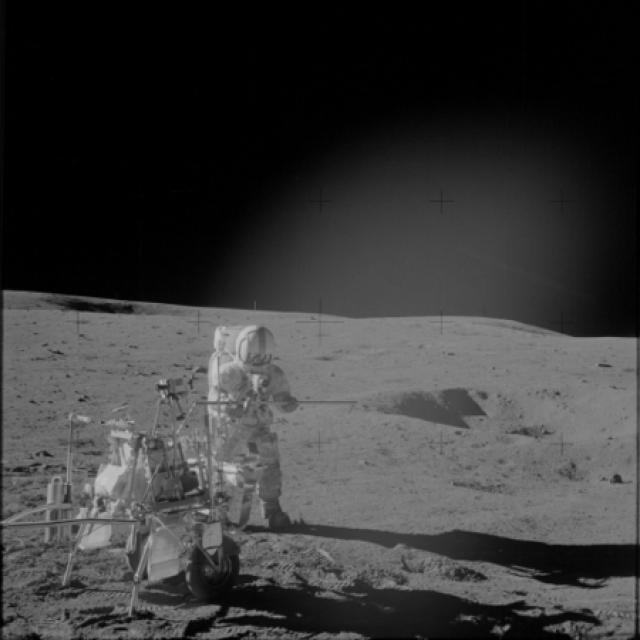crater: (356, 368, 638, 454), (435, 467, 514, 508), (548, 449, 595, 488)
